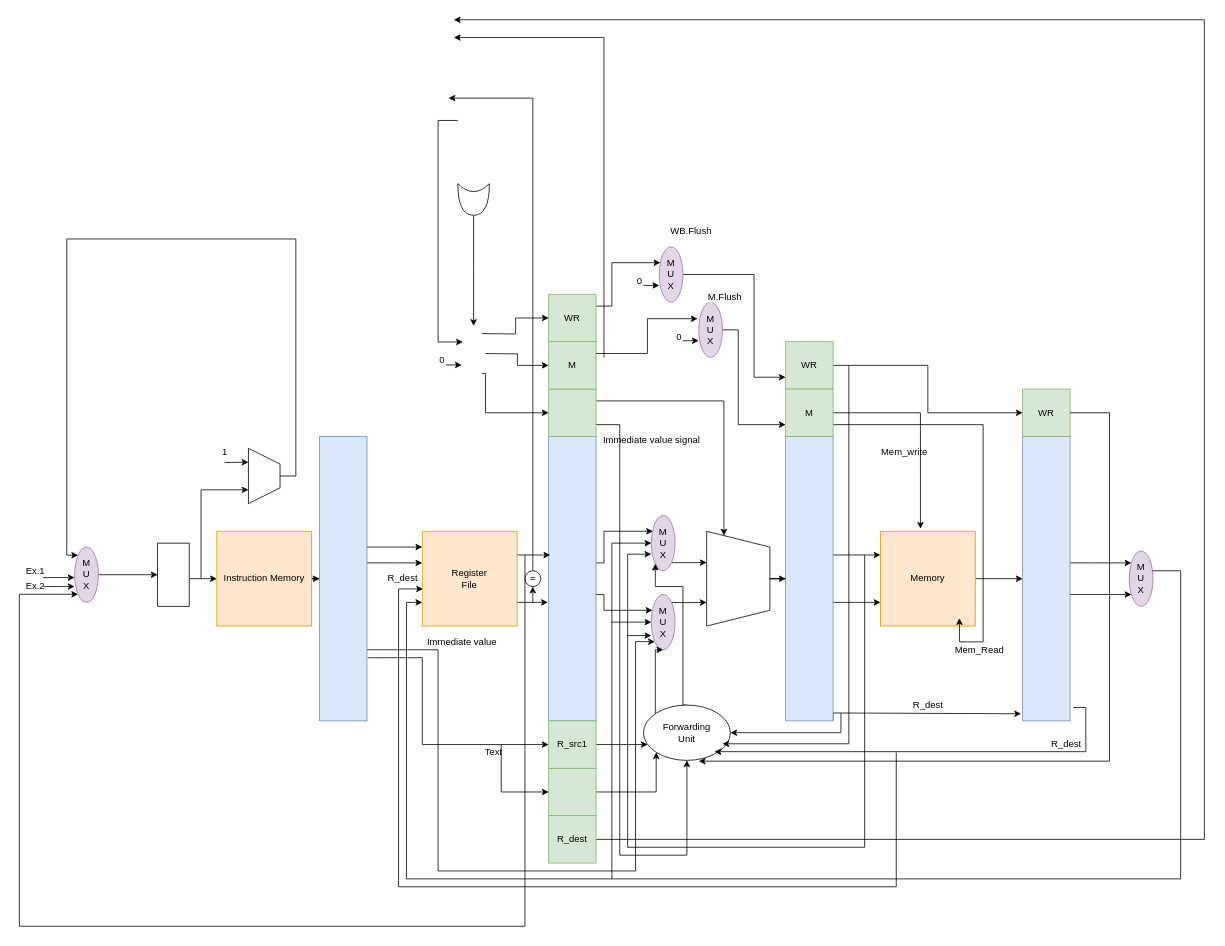
The diagram is 1225 pixels wide and 946 high, and some of its shapes have lost their labels. The shapes that lost their labels are listed below. From the top down, each one's centre as x and y in pixels, then its label:
At [572,412]: "EX".
At [264,476]: "adder".
At [173,574]: "PC".
At [343,578]: "Fetch Buffer".
At [572,578]: "Decode Buffer".
At [738,578]: "ALU".
At [809,578]: "Execute Buffer".
At [1046,578]: "Memory Buffer".
At [572,791]: "R_src2".
